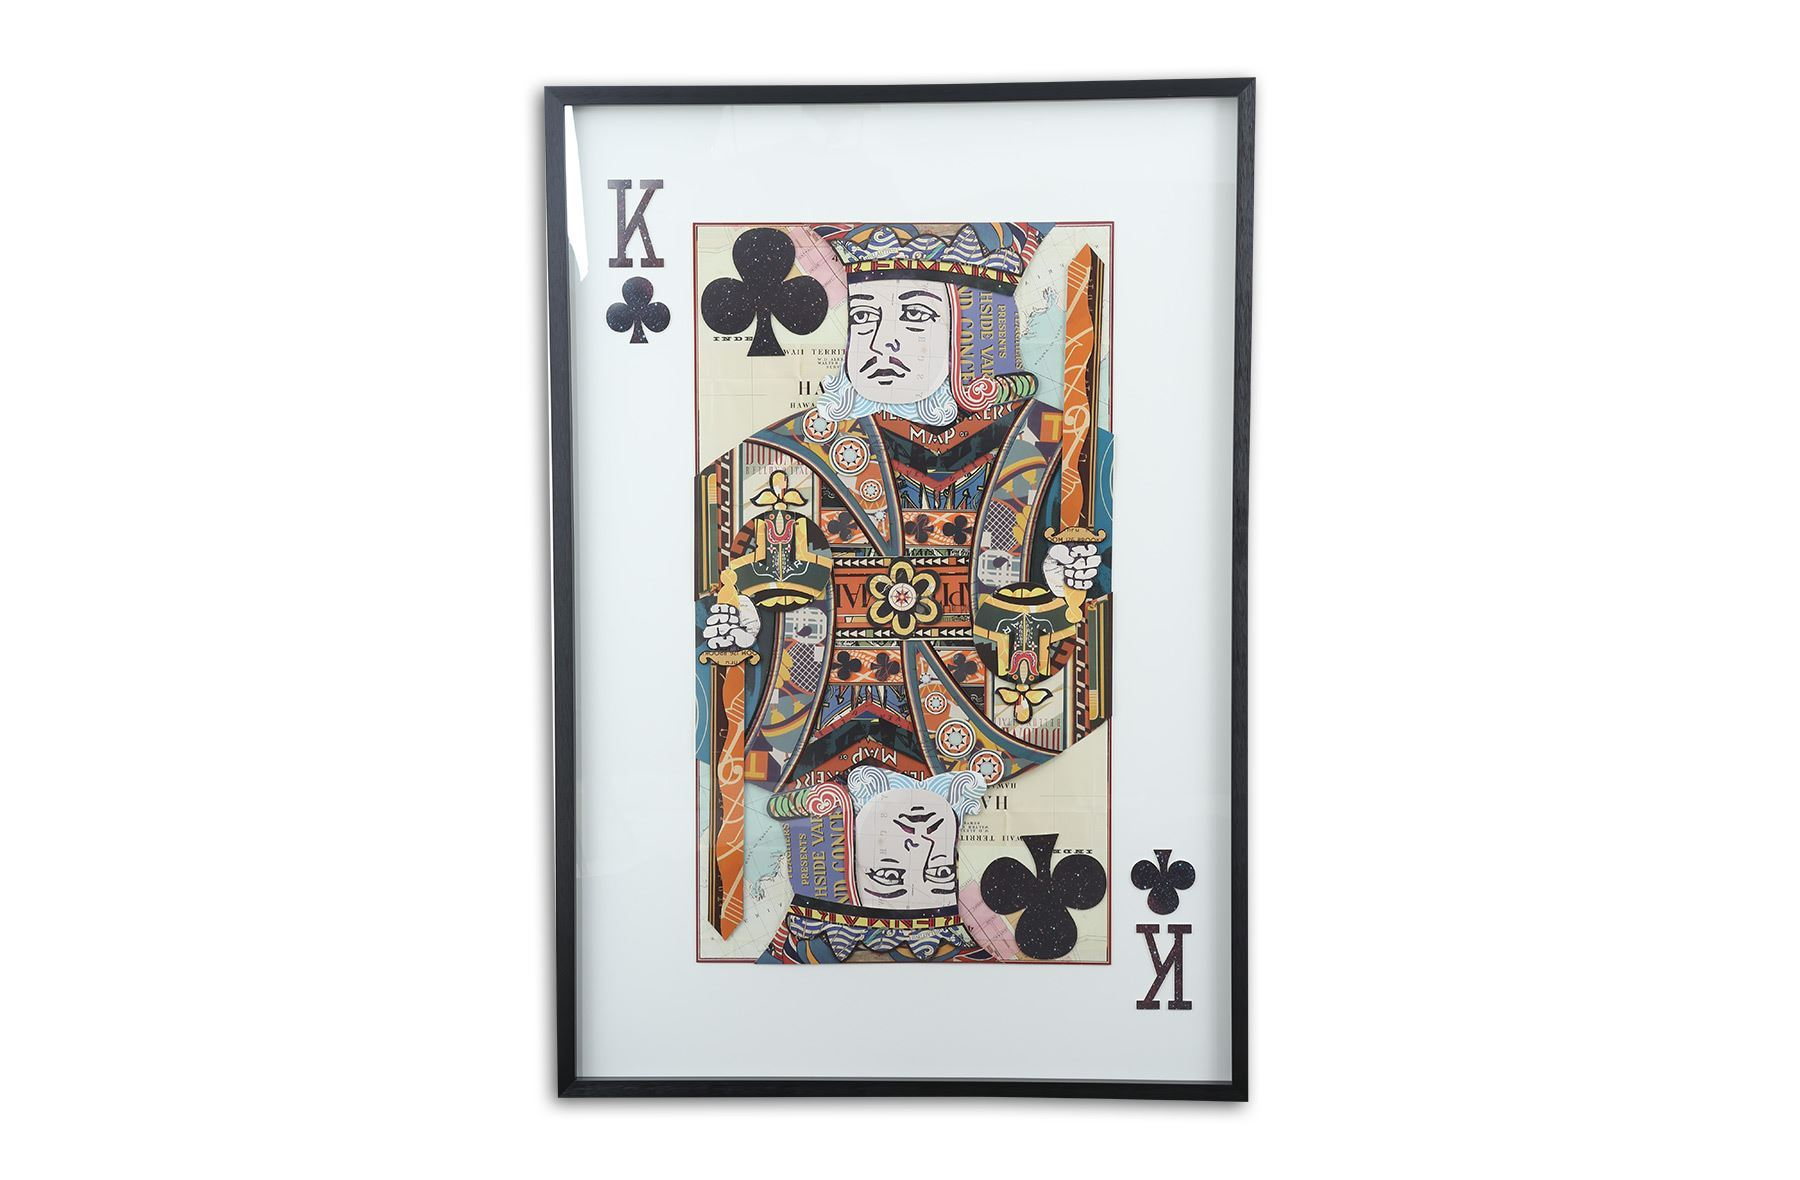king of clubs: (544, 82, 1253, 1093)
